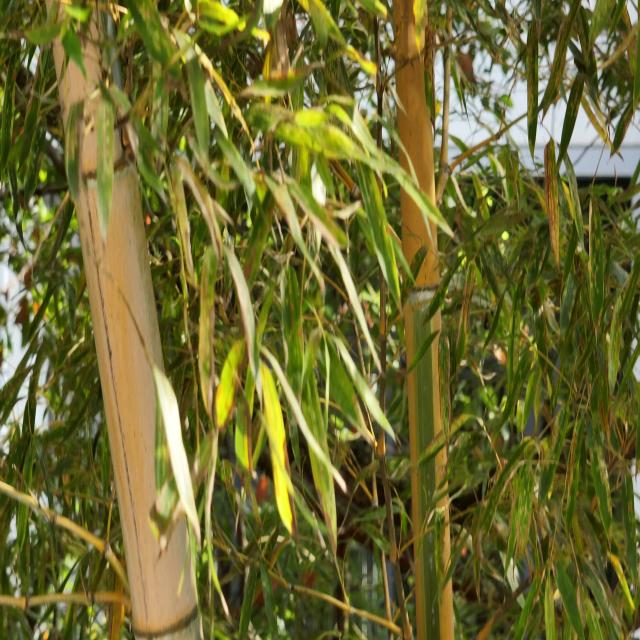Bamboo-shoots: (394, 0, 455, 640)
